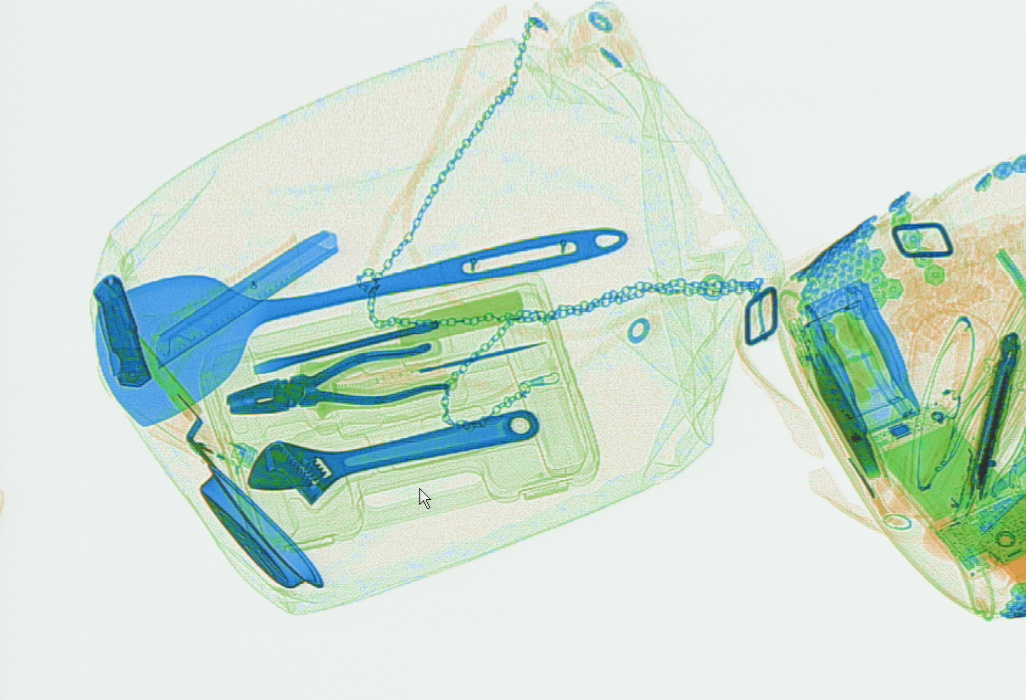knife: (152, 229, 338, 369), (129, 330, 261, 480), (960, 327, 1019, 498), (90, 273, 151, 387)
lighter: (147, 405, 257, 474)
